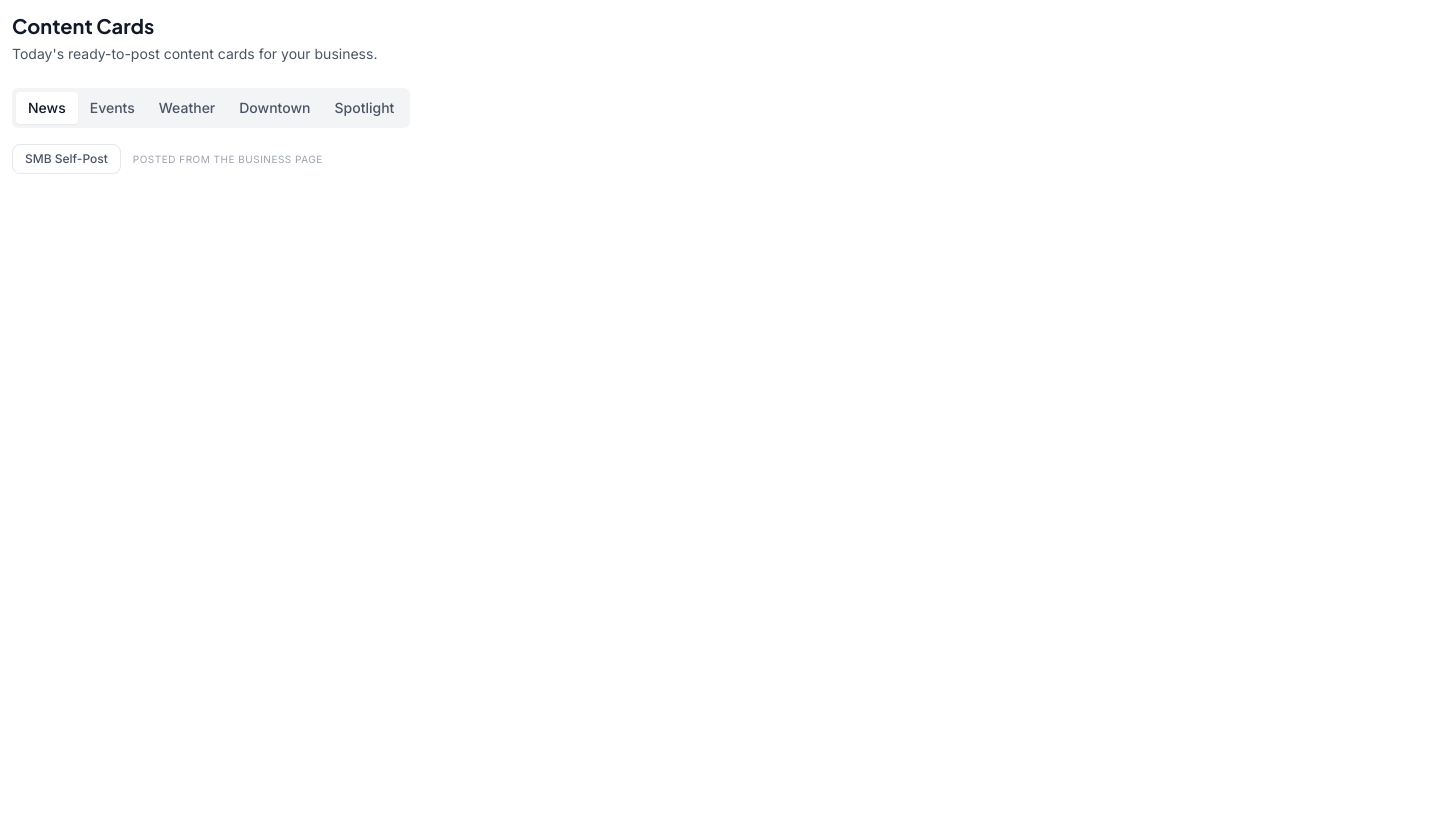
Test case: ContentCardsPage › toggles variant label when variant button is clicked
This screenshot has width=1452, height=822.
Click the button with aria-label "Toggle between self-post and syndication variant" at (66, 159), box [12, 144, 121, 174]
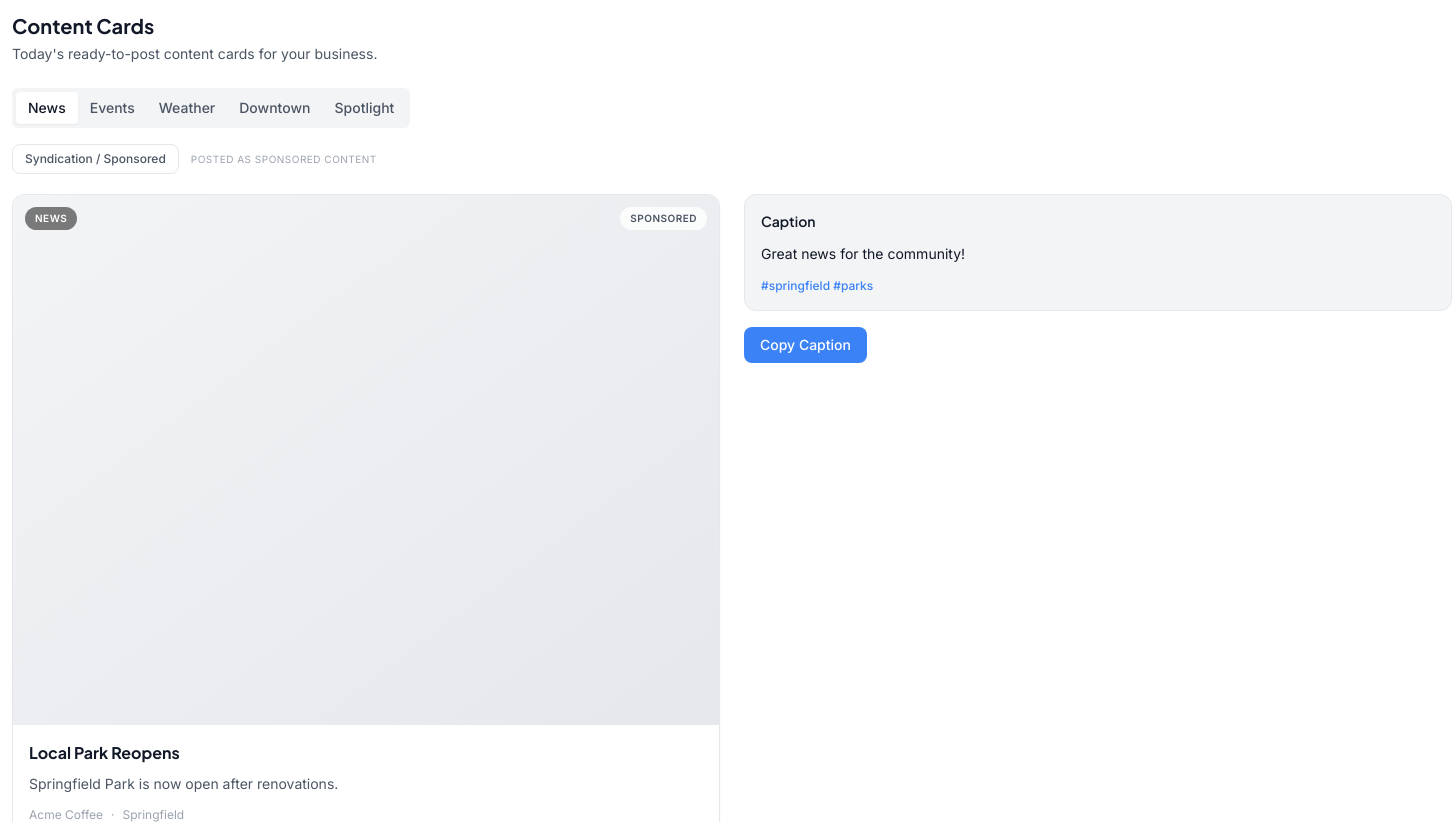
expect the button with aria-label "Toggle between self-post and syndication variant" reads "Syndication / Sponsored": met, box [12, 144, 179, 174]
